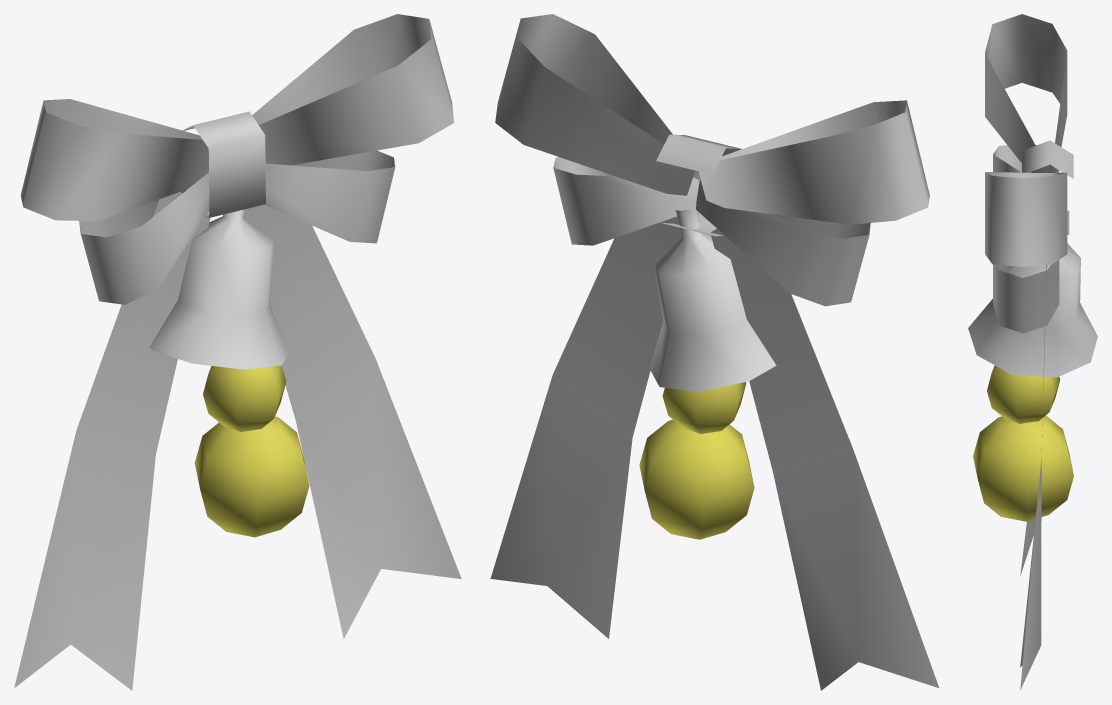
The model's file is Map_06_balloons03.FBX.
The picture shows the model from 3 angles, left to right: view 1: azimuth 30°, elevation 25°; view 2: azimuth 150°, elevation 25°; view 3: azimuth 270°, elevation 25°; orthographic projection. The views are drawn at different scales.
Visible parts, largest first — view 1: Map_06_balloons03; view 2: Map_06_balloons03; view 3: Map_06_balloons03.
Part boxes in pixels (x1=…): Map_06_balloons03: x1=14, y1=14, x2=461, y2=690; Map_06_balloons03: x1=490, y1=14, x2=939, y2=690; Map_06_balloons03: x1=968, y1=14, x2=1097, y2=689.
Size of the model in its own units: 29523 by 37720 by 8432.
